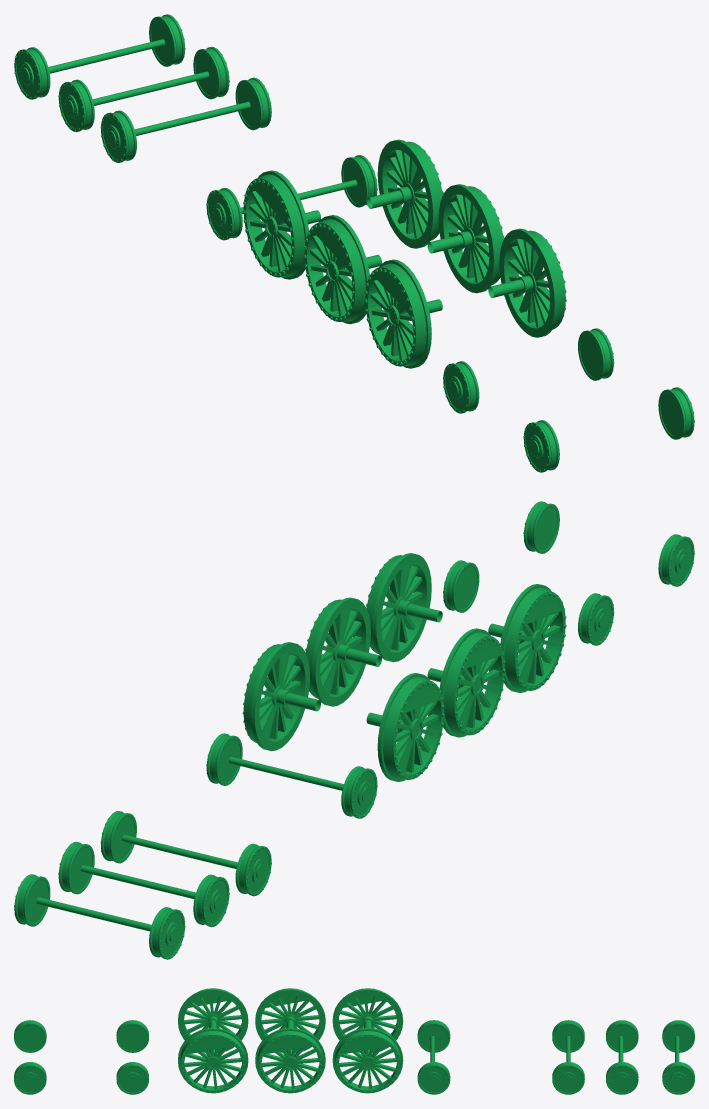
The model's file is TrainWheels.fbx.
3 renders of one model, top to bottom at view 1: azimuth 30°, elevation 25°; view 2: azimuth 150°, elevation 25°; view 3: azimuth 270°, elevation 25°, orthographic. The views are drawn at different scales.
Parts seen in each view (by area): view 1: train1:trainModelforTexture_wheels; view 2: train1:trainModelforTexture_wheels; view 3: train1:trainModelforTexture_wheels.
Boxes of the visible parts, left/top/right/bottom form: train1:trainModelforTexture_wheels: left=14, top=14, right=694, bottom=472; train1:trainModelforTexture_wheels: left=14, top=501, right=694, bottom=959; train1:trainModelforTexture_wheels: left=14, top=988, right=694, bottom=1094.
Size of the model in its own units: 42.98 by 27.02 by 261.
